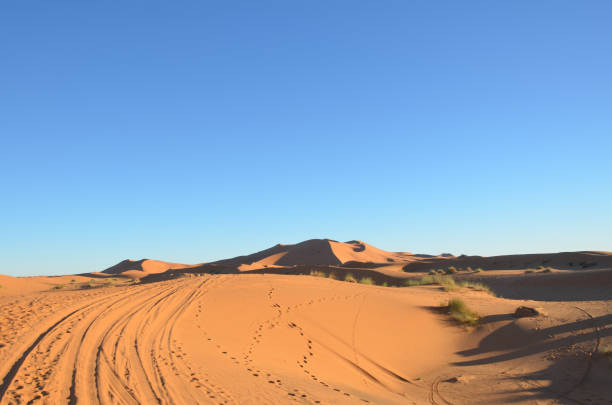human_foot_print: (177, 277, 376, 402), (198, 302, 296, 396), (196, 313, 285, 391), (287, 322, 351, 396), (176, 344, 235, 403), (245, 319, 294, 364)
